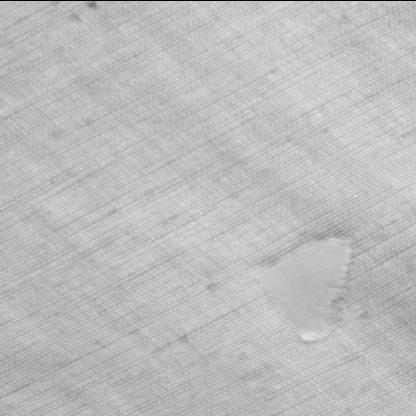objects: (254, 233, 356, 345)
